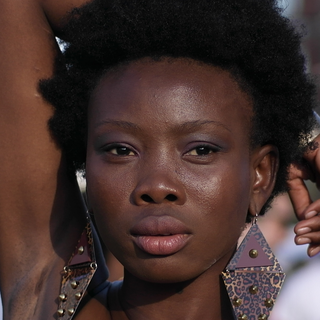eye: (176, 139, 225, 162), (97, 139, 143, 162)
